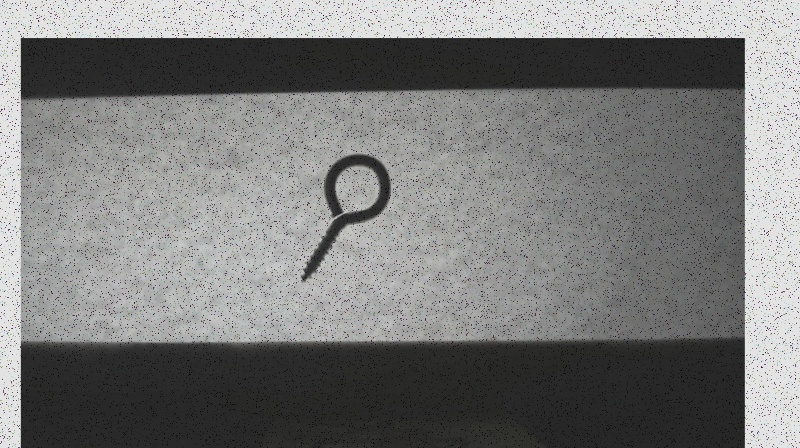O001: (298, 149, 395, 287)
